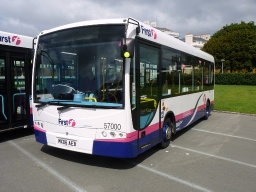bus: (32, 18, 224, 166)
